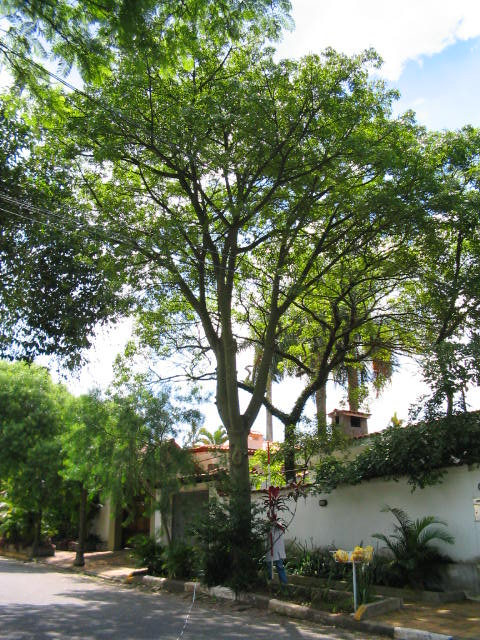crown: (36, 45, 461, 326)
stem: (204, 433, 264, 583)
stick: (262, 442, 278, 581)
tree: (32, 43, 463, 584)
